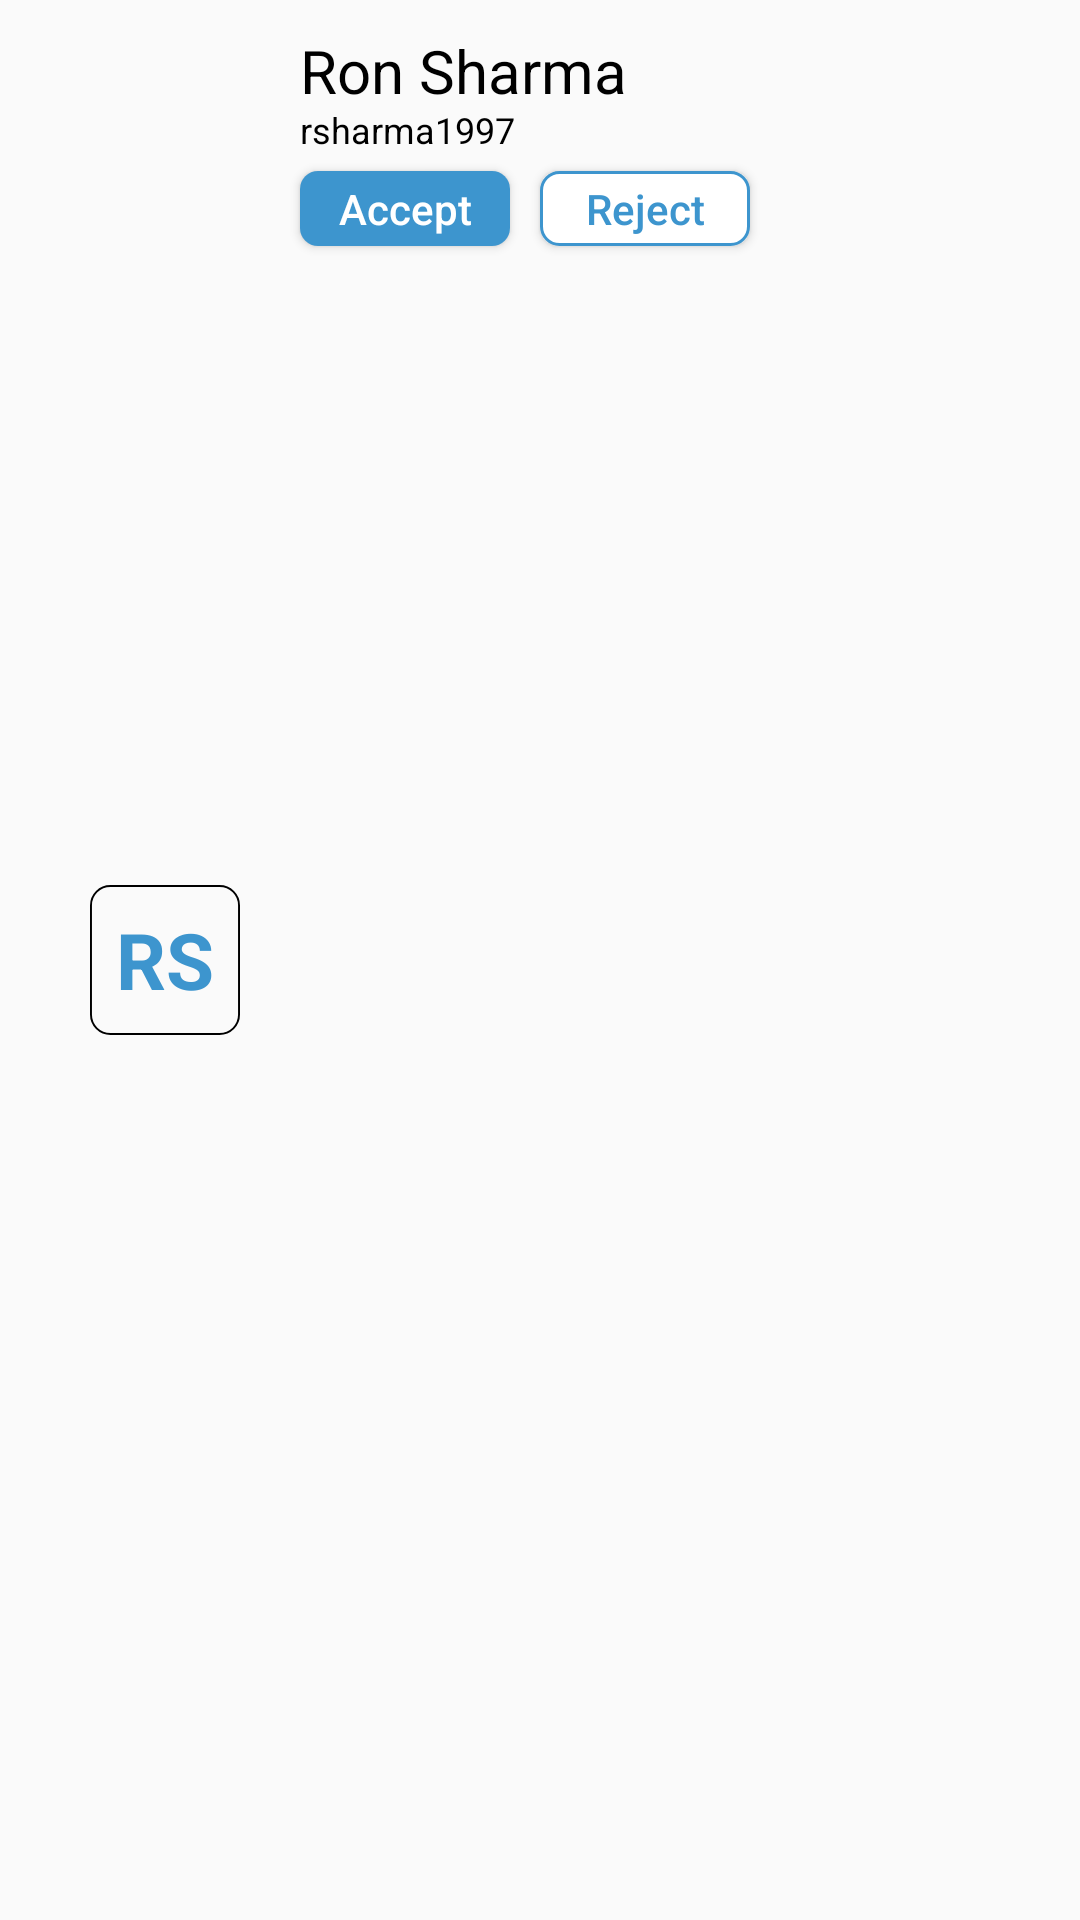

Where to tap for icons on this 1080 × 1920 app screen, as [x,y]:
userbox: [165,960]
